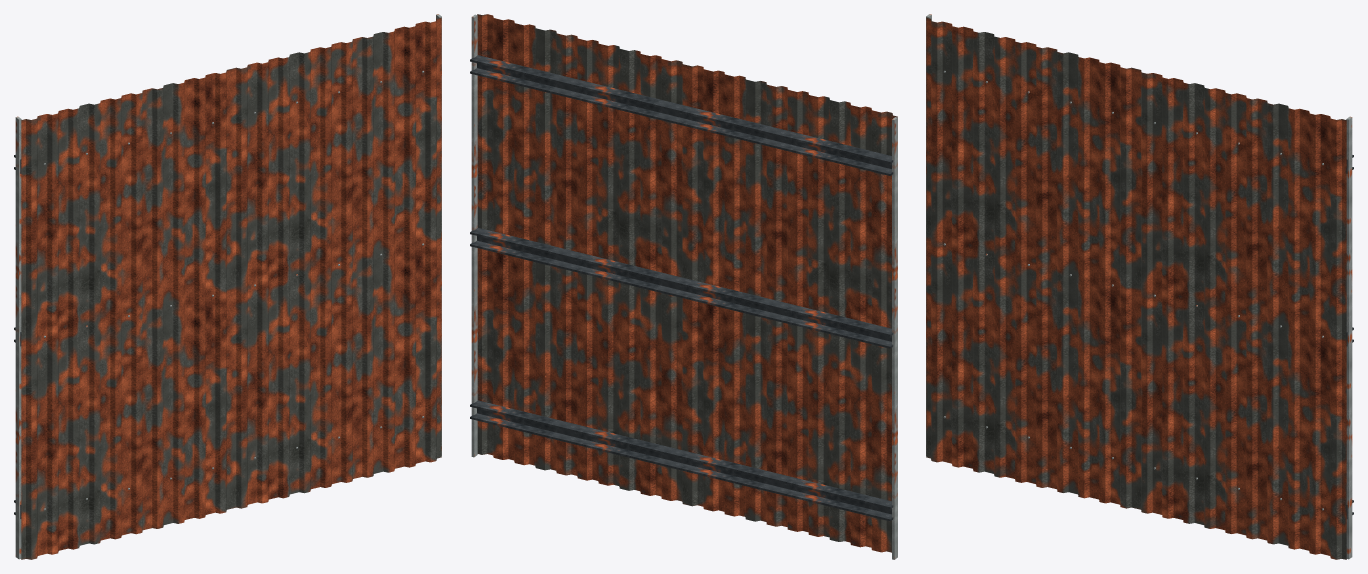
File: WALL_4000x4000_RUST_HEAVY.glb
The picture shows the model from 3 angles, left to right: view 1: azimuth 30°, elevation 25°; view 2: azimuth 150°, elevation 25°; view 3: azimuth 330°, elevation 25°; orthographic projection.
Parts seen in each view (by area): view 1: WALL_4000x4000_RUST_HEAVY__Cladding_1p2mm_Corrugated, WALL_4000x4000_RUST_HEAVY__Joints_VerticalEdgeTrims; view 2: WALL_4000x4000_RUST_HEAVY__Cladding_1p2mm_Corrugated, WALL_4000x4000_RUST_HEAVY__Girt_CChannels_Three, WALL_4000x4000_RUST_HEAVY__Joints_VerticalEdgeTrims; view 3: WALL_4000x4000_RUST_HEAVY__Cladding_1p2mm_Corrugated, WALL_4000x4000_RUST_HEAVY__Joints_VerticalEdgeTrims.
Boxes of the visible parts, x1,y1,x2,y2 form: WALL_4000x4000_RUST_HEAVY__Cladding_1p2mm_Corrugated: (21, 17, 441, 559); WALL_4000x4000_RUST_HEAVY__Joints_VerticalEdgeTrims: (15, 14, 441, 559); WALL_4000x4000_RUST_HEAVY__Cladding_1p2mm_Corrugated: (477, 14, 897, 552); WALL_4000x4000_RUST_HEAVY__Girt_CChannels_Three: (470, 55, 893, 521); WALL_4000x4000_RUST_HEAVY__Joints_VerticalEdgeTrims: (471, 14, 897, 559); WALL_4000x4000_RUST_HEAVY__Cladding_1p2mm_Corrugated: (926, 17, 1346, 559); WALL_4000x4000_RUST_HEAVY__Joints_VerticalEdgeTrims: (926, 14, 1352, 559).
Bounding box in the file's own units: 4.02 × 4 × 0.165.
Materials: 3 (3 with a texture image).
